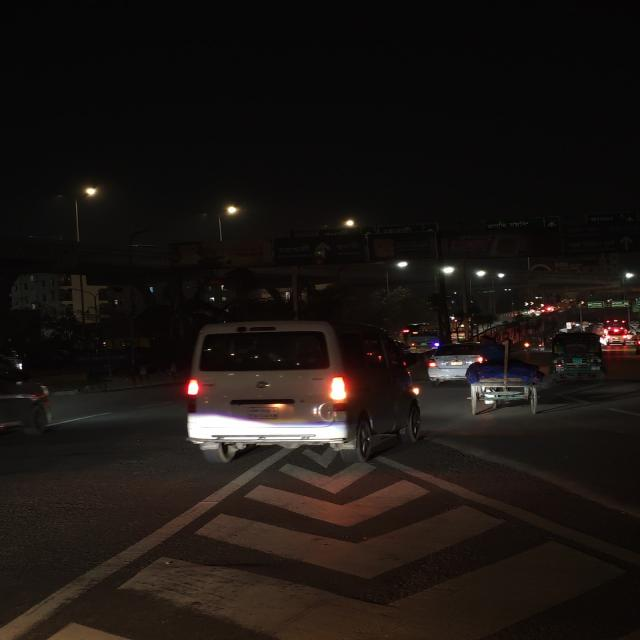car: (180, 321, 425, 465), (424, 342, 486, 384)
cng: (548, 332, 608, 382)
rickshaw: (463, 352, 544, 417)
